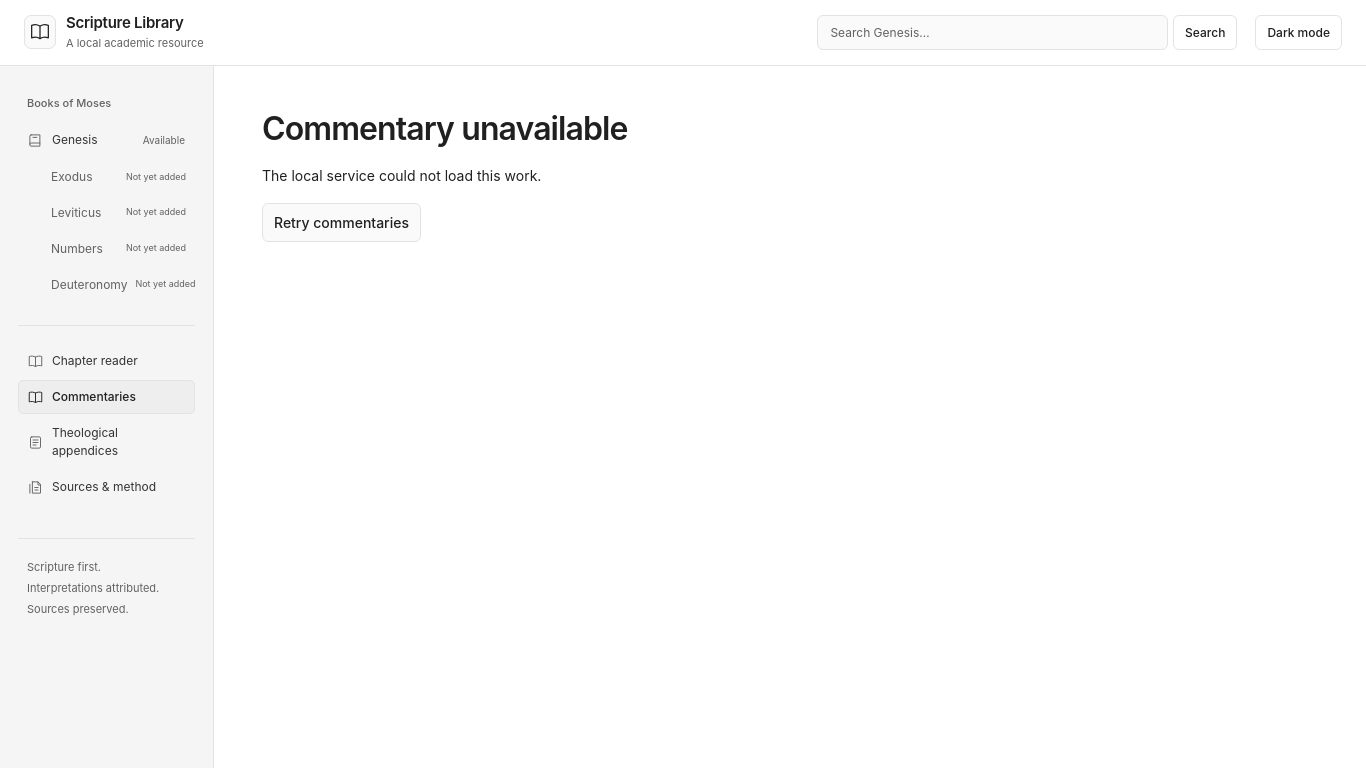
Test case: updates the title on a retryable work error and restores it after retry
Expected: the heading "Commentary unavailable" is shown, left=262, top=109, right=628, bottom=148
Click the button "Retry commentaries".
click(341, 222)  # box left=262, top=203, right=421, bottom=242
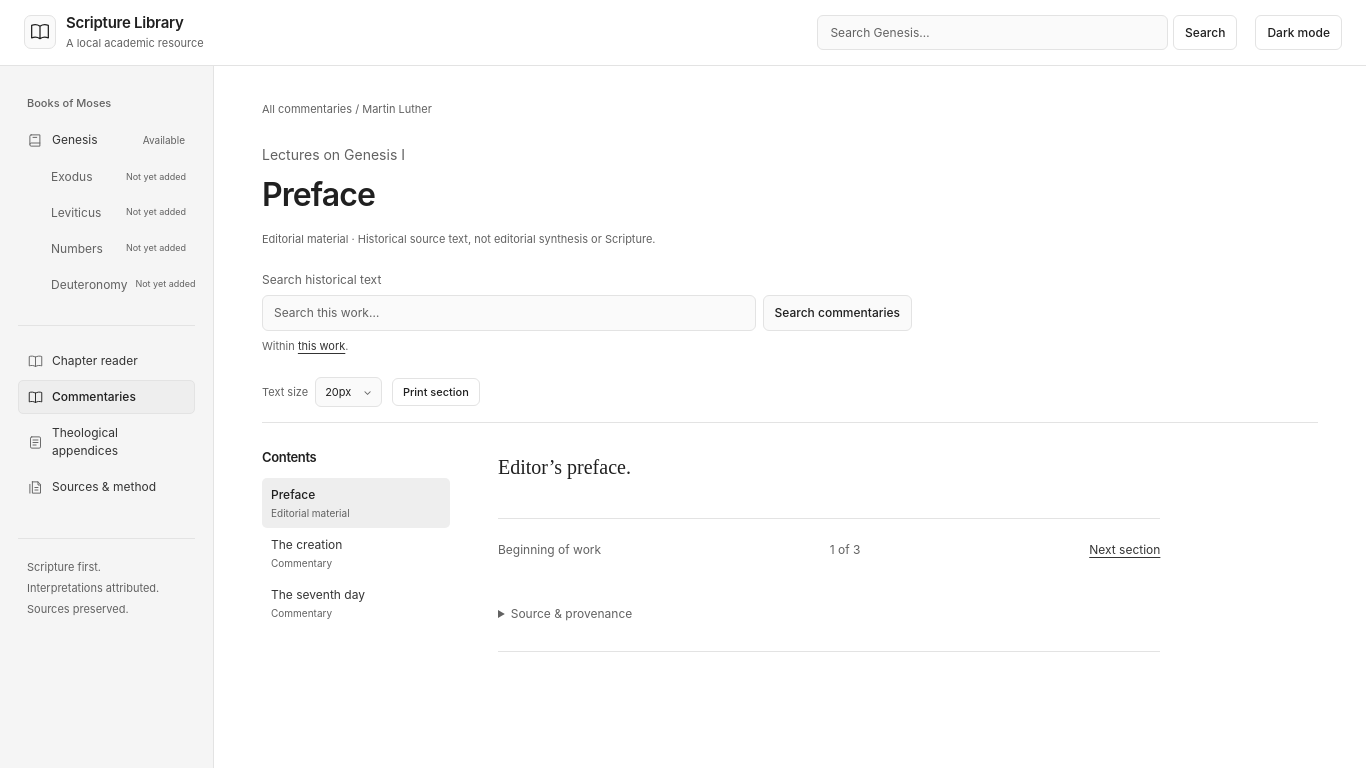
Expected: the element "preface" is shown, left=498, top=456, right=631, bottom=478
